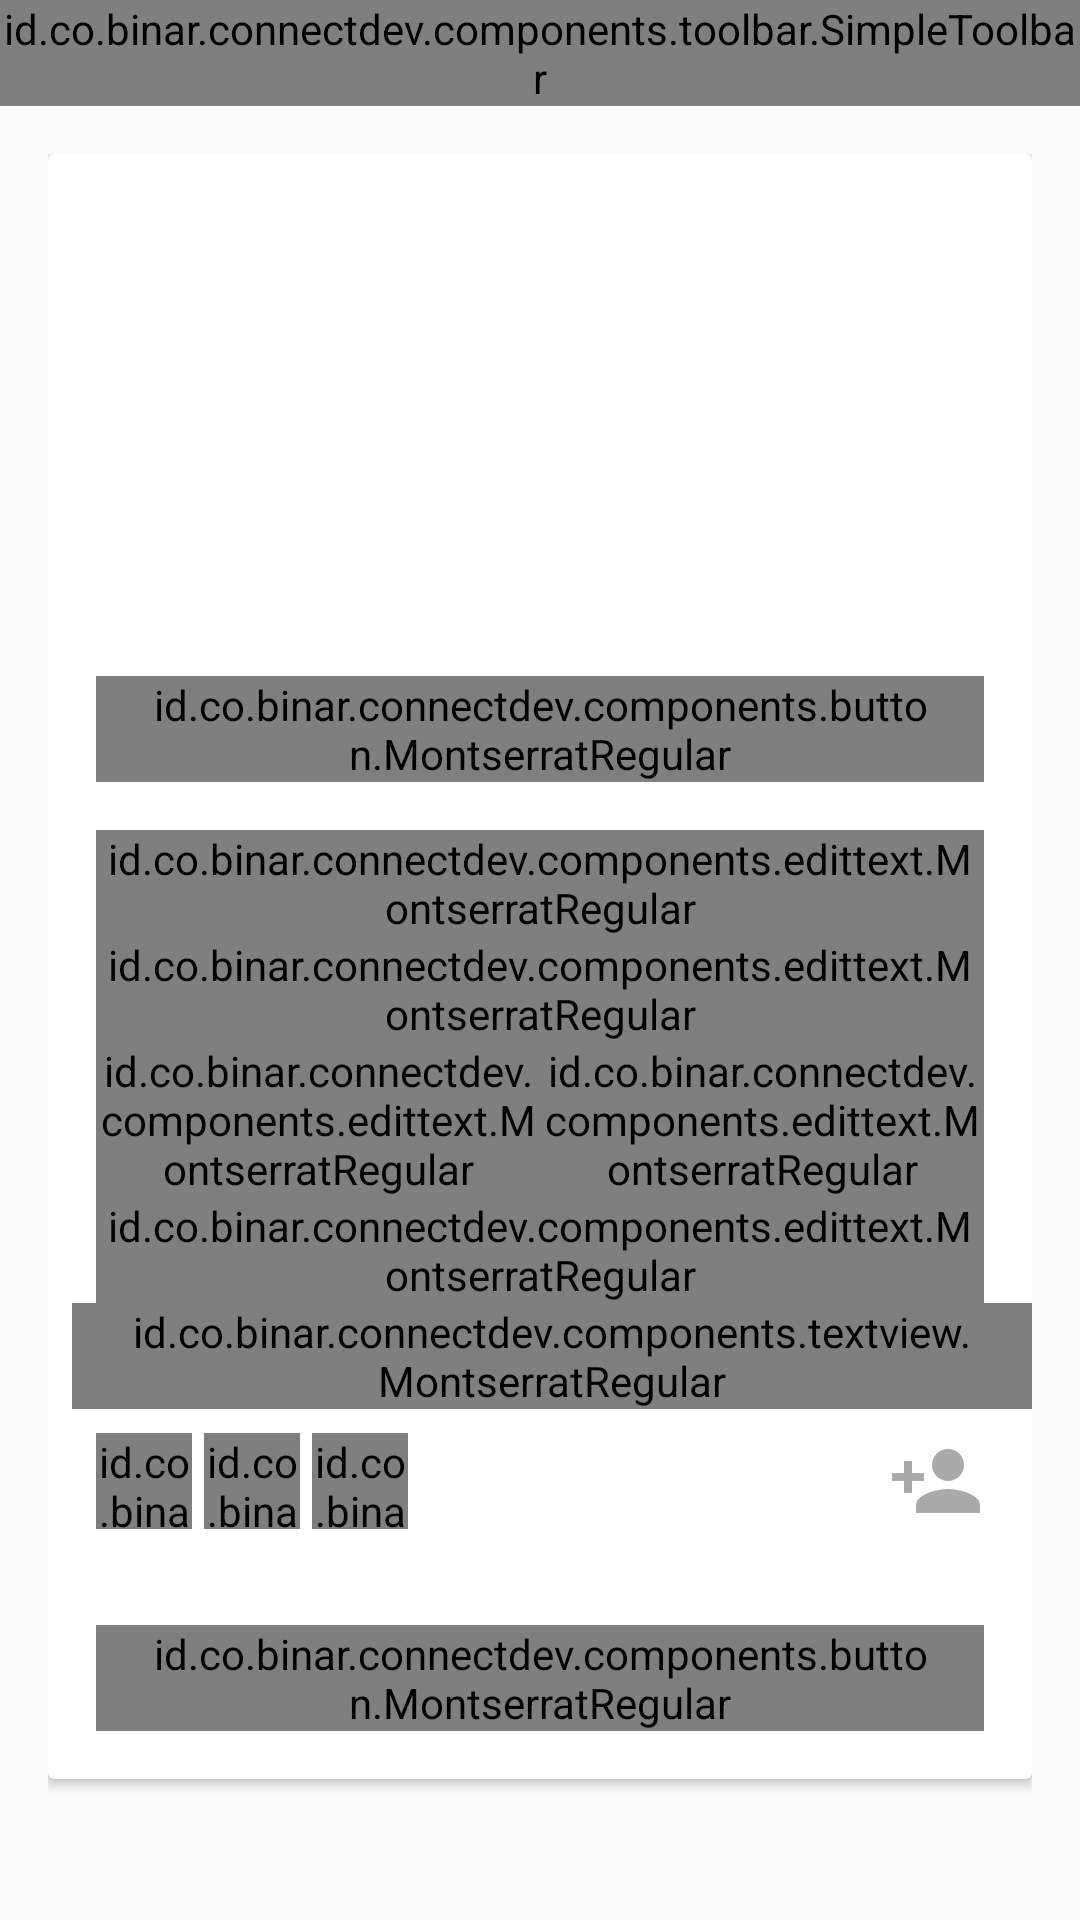

Named icons in this screenshot (1080x1920) and their centers, (x,y):
person add: (936,1481)
